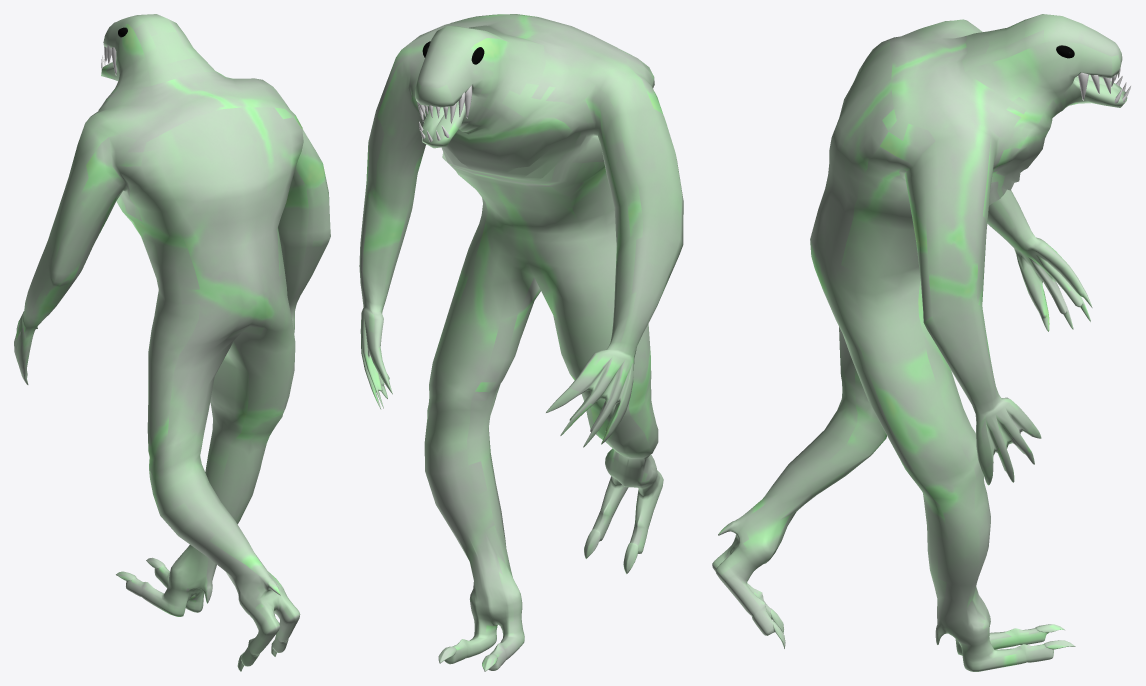
The model's file is Berserkerandar.0033.obj.
3 views of the same model, side by side, from view 1: azimuth 30°, elevation 25°; view 2: azimuth 150°, elevation 25°; view 3: azimuth 270°, elevation 25° (orthographic). The views are drawn at different scales.
Visible parts, largest first — view 1: polySurface27; view 2: polySurface27; view 3: polySurface27.
Boxes of the visible parts, x1,y1,x2,y2 form: polySurface27: [14, 14, 330, 671]; polySurface27: [359, 14, 683, 671]; polySurface27: [712, 14, 1131, 671].
Size of the model in its own units: 11.51 by 23.09 by 13.61.
Materials: 1 (1 with a texture image).
